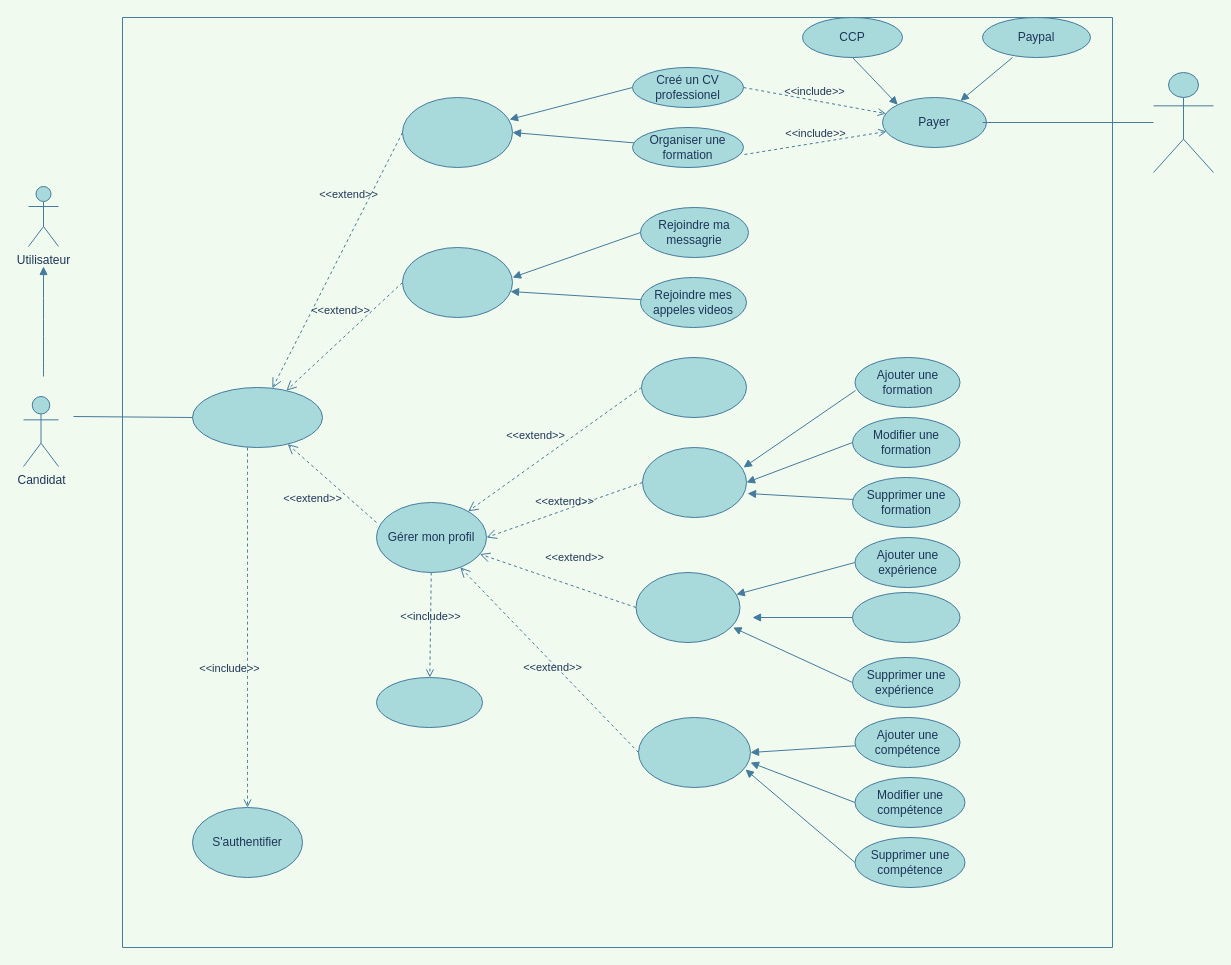
Some shapes in this 1231 by 965 pixel diagram are drawn without their labels. The centre of each missing label's shape, as x and y in pixels:
Consulter mon profill: the point at 429,702
Demande d'accompagnement: the point at 457,132
Gérer mes compétence: the point at 694,752
Gérer mes expérience: the point at 687,607
Gérer mes formation: the point at 694,482
Gérer mon contacte: the point at 457,282
Gérer mon espace: the point at 257,417
La Banque: the point at 1183,122
Modifier une expérience: the point at 906,617
Télécharcher mon cv: the point at 693,387
